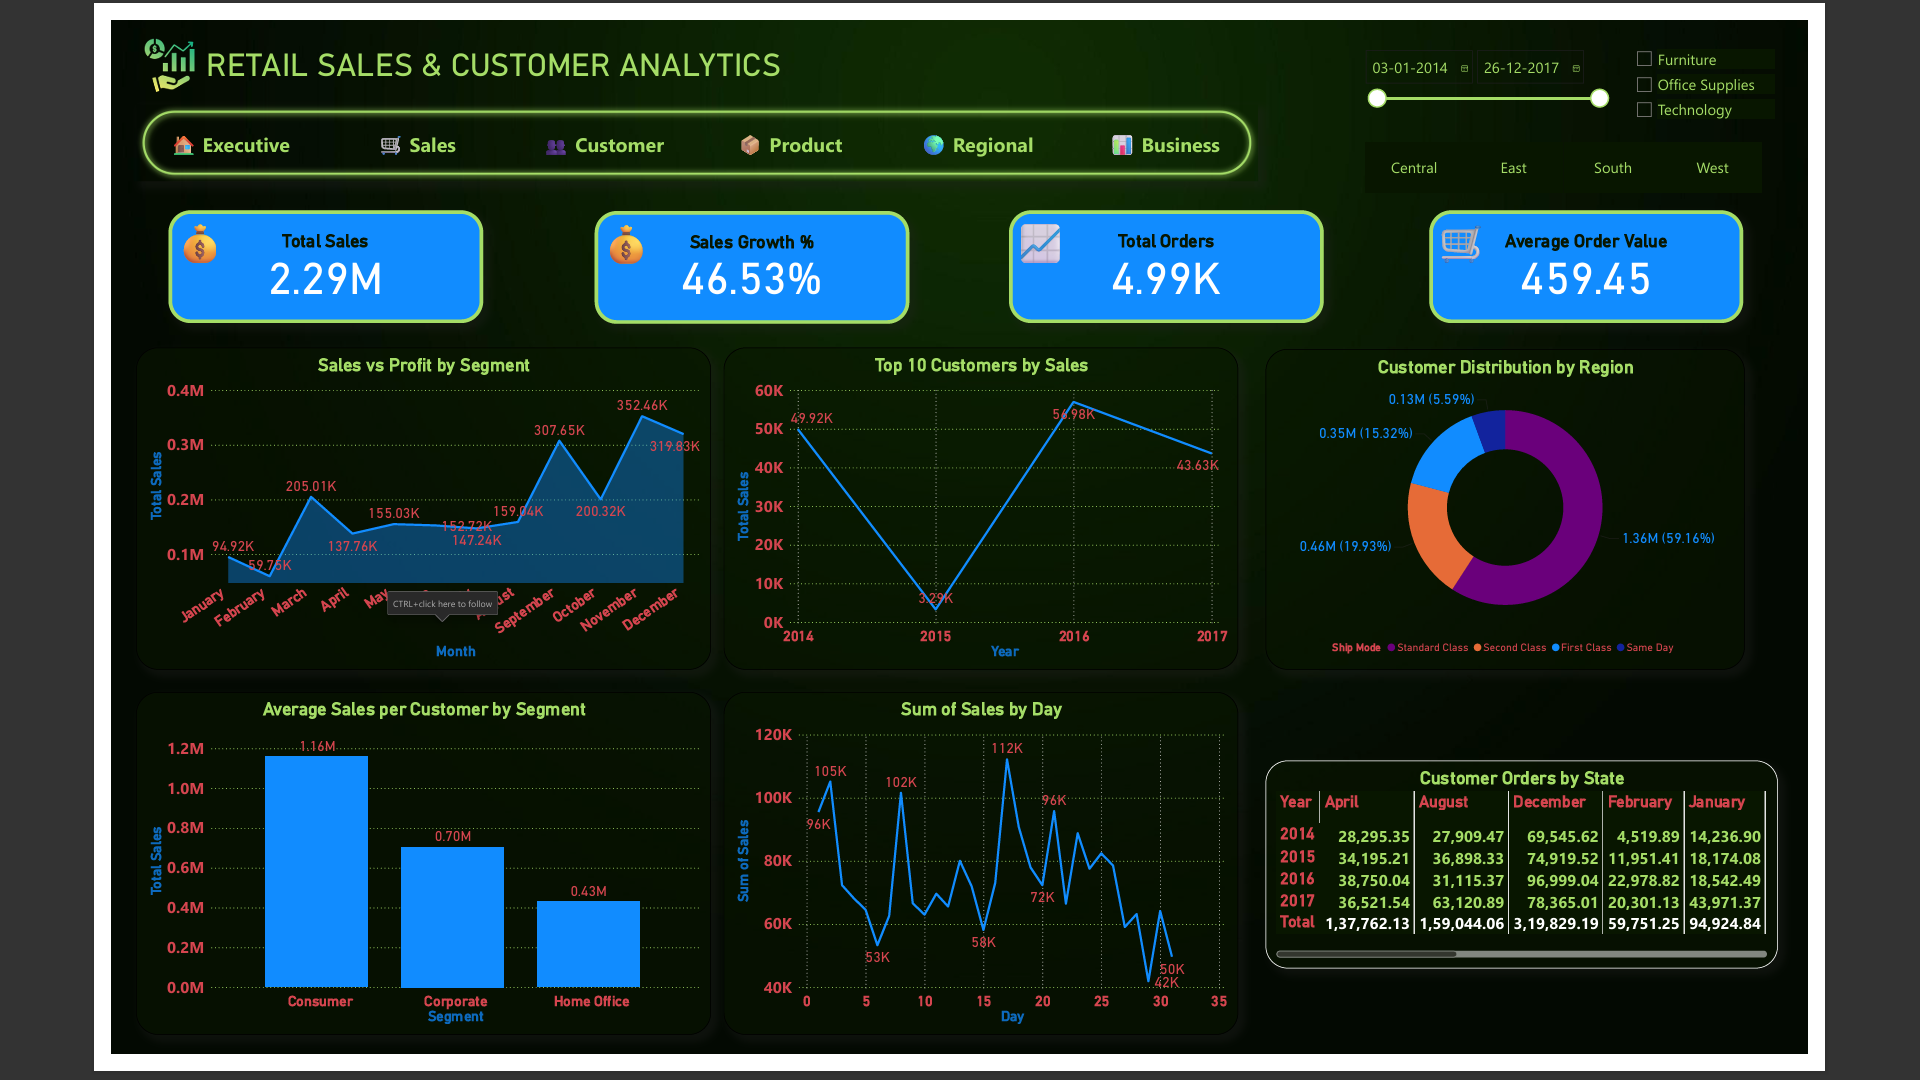

The dashboard page shown, as its layout file describes it:
{"tool":"powerbi","page":{"name":"Sales Analysis","canvas":[2300,1400],"ordinal":2},"visuals":[{"type":"group","id":"g1","title":"Group 2","box":[33.3,113.3,1523.3,103.3],"z":0},{"type":"actionButton","box":[33.3,113.3,1522.5,105],"z":0,"group":"g1"},{"type":"cardVisual","fields":{"Data":["Sample_ Superstore.Total Sales"]},"box":[76.7,256.7,426.7,153.3],"z":0,"group":"g3"},{"type":"cardVisual","fields":{"Data":["Sample_ Superstore.Total Orders"]},"box":[1216.7,256.7,426.7,153.3],"z":0,"group":"g5"},{"type":"cardVisual","fields":{"Data":["Sample_ Superstore.Sales Growth %"]},"box":[655,257.5,426.7,153.3],"z":0,"group":"g4"},{"type":"actionButton","box":[33.3,117,254.7,101.3],"z":1000,"group":"g2"},{"type":"cardVisual","fields":{"Data":["Sample_ Superstore.Average Order Value"]},"box":[1786.7,256.7,426.7,153.3],"z":1000},{"type":"textbox","box":[77.8,257.8,426.7,90],"z":1000,"group":"g3"},{"type":"textbox","box":[1217.8,257.8,426.7,90],"z":1000,"group":"g5"},{"type":"textbox","box":[656.1,258.6,426.7,90],"z":1000,"group":"g4"},{"type":"image","box":[32.5,23.3,90,75],"z":2000},{"type":"actionButton","box":[287.3,117,253.3,101.3],"z":2000,"group":"g2"},{"type":"actionButton","box":[541,117,252.5,101.3],"z":3000,"group":"g2"},{"type":"textbox","box":[1787.8,257.8,426.7,83.3],"z":3000},{"type":"group","id":"g2","title":"Group 1","box":[33.3,117,1522.5,101.3],"z":3004,"group":"g1"},{"type":"textbox","box":[122.5,30,1065,75],"z":4000},{"type":"actionButton","box":[793.4,117,252.5,101.3],"z":4000,"group":"g2"},{"type":"slicer","fields":{"Values":["Sample_ Superstore.Order Date"]},"box":[1687.5,30,352.5,97.5],"z":5000},{"type":"actionButton","box":[1047.1,117,253.3,101.3],"z":5000,"group":"g2"},{"type":"actionButton","box":[1301.1,117,254.7,101.3],"z":6000,"group":"g2"},{"type":"slicer","fields":{"Values":["Sample_ Superstore.Region"]},"box":[1674,158,588,82],"z":6000},{"type":"slicer","fields":{"Values":["Sample_ Superstore.Category"]},"box":[2056,30,206,116],"z":7000},{"type":"group","id":"g3","title":"Group 3","box":[76.7,256.7,427.8,153.3],"z":8000},{"type":"group","id":"g4","title":"Group 3","box":[655,257.5,425,152.5],"z":9000},{"type":"group","id":"g5","title":"Group 3","box":[1216.7,256.7,427.8,153.3],"z":10000},{"type":"clusteredColumnChart","title":"Average Sales per Customer by Segment","fields":{"Category":["Sample_ Superstore.Segment"],"Y":["Sample_ Superstore.Total Sales"]},"box":[32.5,910,780,465],"z":11000},{"type":"donutChart","title":"Customer Distribution by Region","fields":{"Category":["Sample_ Superstore.Ship Mode"],"Y":["Sample_ Superstore.Total Sales"]},"box":[1565,445,650,435],"z":12000},{"type":"lineChart","title":"Top 10 Customers by Sales","fields":{"Category":["Sample_ Superstore.Order Date.Variation.Date Hierarchy.Year"],"Y":["Sample_ Superstore.Total Sales"]},"box":[830,442.5,697.5,437.5],"z":13000},{"type":"pivotTable","title":"Customer Orders by State","fields":{"Rows":["Calendar.Year"],"Columns":["Calendar.Month"],"Values":["Sum(Sample_ Superstore.Sales)"]},"box":[1565,1002.5,695,282.5],"z":14000},{"type":"areaChart","title":"Sales vs Profit by Segment","fields":{"Y":["Sample_ Superstore.Total Sales"],"Category":["Sample_ Superstore.Order Date.Variation.Date Hierarchy.Month"]},"box":[32.5,442.5,780,437.5],"z":15000},{"type":"lineChart","fields":{"Category":["Sample_ Superstore.Order Date.Variation.Date Hierarchy.Day"],"Y":["Sum(Sample_ Superstore.Sales)"]},"box":[830,910,697.5,465],"z":16000}]}

Visuals, with their boxes on the page's 2300x1400 design canvas (x1, y1, x2, y2). These are canvas units, not pixel positions in the 1920x1080 screenshot, which may show the page scaled, cropped or inside an application window:
"Group 2" group: <region>33, 113, 1557, 217</region>
actionButton: <region>33, 113, 1556, 218</region>
cardVisual - Sample_ Superstore.Total Sales: <region>77, 257, 503, 410</region>
cardVisual - Sample_ Superstore.Total Orders: <region>1217, 257, 1643, 410</region>
cardVisual - Sample_ Superstore.Sales Growth %: <region>655, 258, 1082, 411</region>
actionButton: <region>33, 117, 288, 218</region>
cardVisual - Sample_ Superstore.Average Order Value: <region>1787, 257, 2213, 410</region>
textbox: <region>78, 258, 504, 348</region>
textbox: <region>1218, 258, 1644, 348</region>
textbox: <region>656, 259, 1083, 349</region>
image: <region>32, 23, 122, 98</region>
actionButton: <region>287, 117, 541, 218</region>
actionButton: <region>541, 117, 794, 218</region>
textbox: <region>1788, 258, 2214, 341</region>
"Group 1" group: <region>33, 117, 1556, 218</region>
textbox: <region>122, 30, 1188, 105</region>
actionButton: <region>793, 117, 1046, 218</region>
slicer - Sample_ Superstore.Order Date: <region>1688, 30, 2040, 128</region>
actionButton: <region>1047, 117, 1300, 218</region>
actionButton: <region>1301, 117, 1556, 218</region>
slicer - Sample_ Superstore.Region: <region>1674, 158, 2262, 240</region>
slicer - Sample_ Superstore.Category: <region>2056, 30, 2262, 146</region>
"Group 3" group: <region>77, 257, 504, 410</region>
"Group 3" group: <region>655, 258, 1080, 410</region>
"Group 3" group: <region>1217, 257, 1644, 410</region>
"Average Sales per Customer by Segment" clusteredColumnChart: <region>32, 910, 812, 1375</region>
"Customer Distribution by Region" donutChart: <region>1565, 445, 2215, 880</region>
"Top 10 Customers by Sales" lineChart: <region>830, 442, 1528, 880</region>
"Customer Orders by State" pivotTable: <region>1565, 1002, 2260, 1285</region>
"Sales vs Profit by Segment" areaChart: <region>32, 442, 812, 880</region>
lineChart - Sample_ Superstore.Order Date.Variation.Date Hierarchy.Day x Sum(Sample_ Superstore.Sales): <region>830, 910, 1528, 1375</region>
